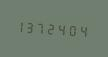four: (77, 21, 86, 39), (57, 20, 66, 37)
one: (17, 17, 26, 35)
seven: (37, 18, 46, 36)
three: (27, 18, 36, 35)
two: (47, 19, 56, 37)
zero: (67, 20, 76, 38)
